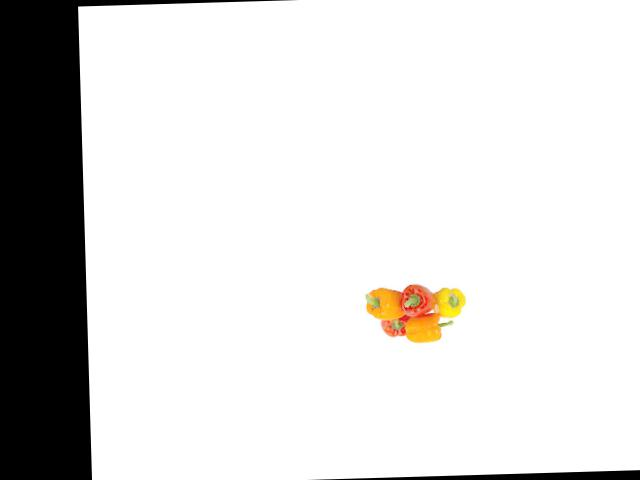bell_pepper: (356, 283, 406, 324)
